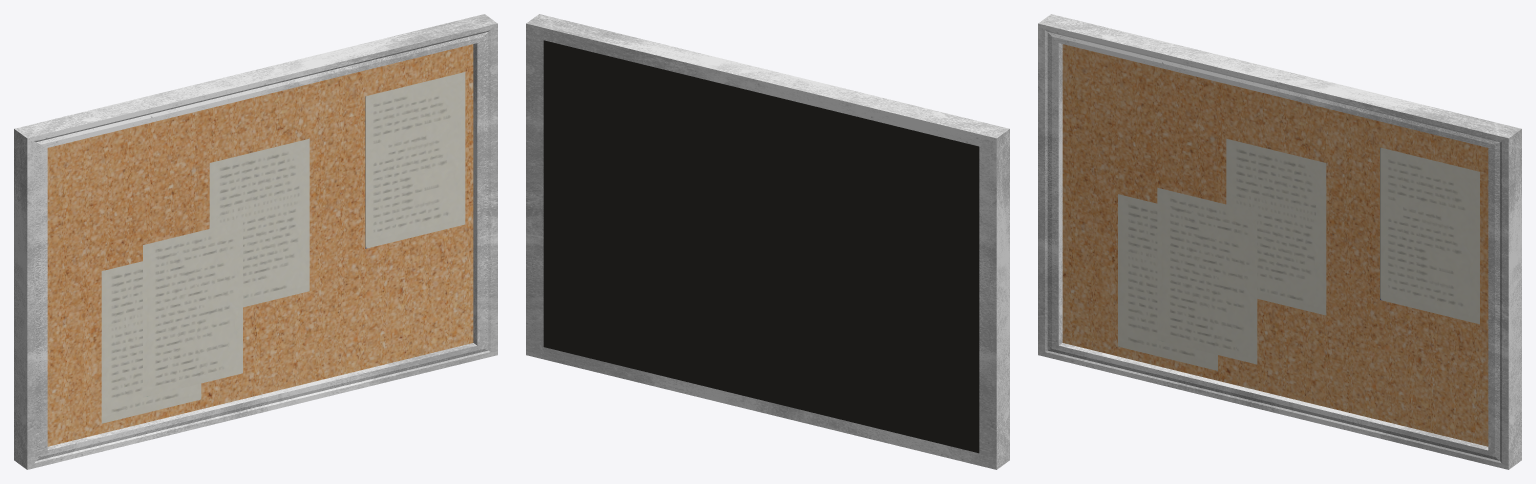
The model's file is Corkboard 1.fbx.
3 renders of one model, left to right at view 1: azimuth 30°, elevation 25°; view 2: azimuth 150°, elevation 25°; view 3: azimuth 330°, elevation 25°, orthographic.
Visible parts, largest first — view 1: Plane; view 2: Plane; view 3: Plane.
Part boxes in pixels (x1=…): Plane: x1=14, y1=14, x2=497, y2=469; Plane: x1=526, y1=14, x2=1009, y2=469; Plane: x1=1038, y1=14, x2=1521, y2=469.
Bounding box in the file's own units: 102 × 68.54 × 4.92.
